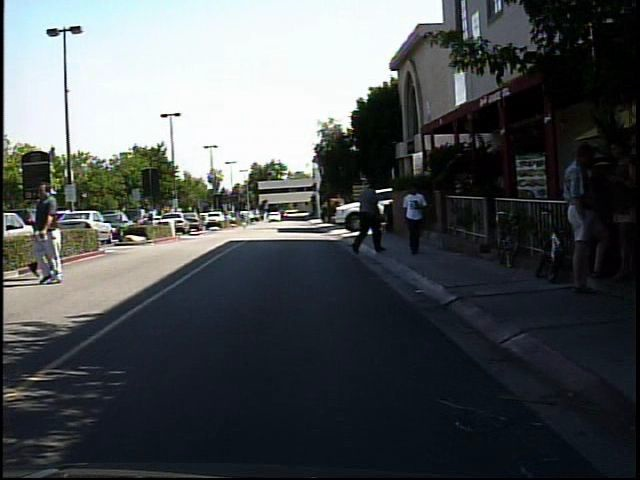person: (557, 134, 604, 298), (597, 139, 634, 281), (28, 183, 72, 280), (31, 179, 68, 287), (347, 174, 392, 258), (396, 177, 434, 259), (145, 202, 161, 237), (236, 204, 252, 229)
